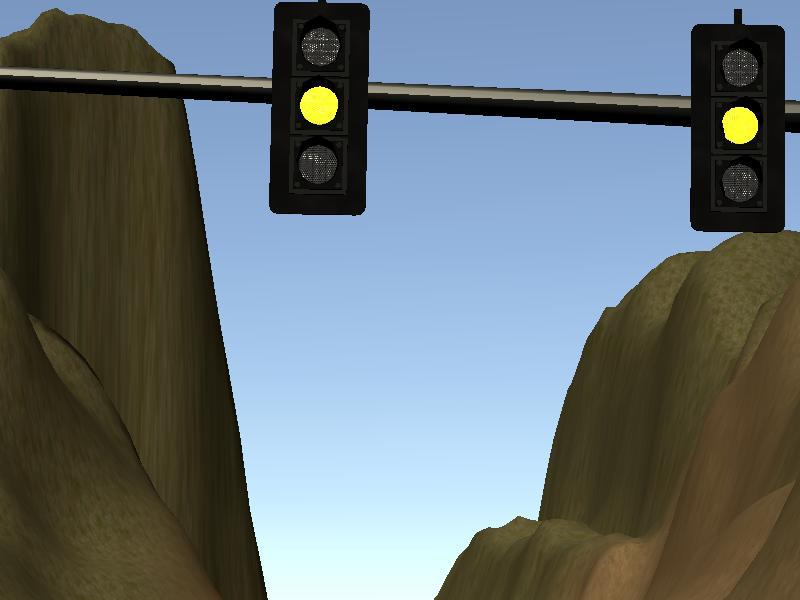Yellow: (690, 24, 786, 231), (274, 2, 364, 213)
